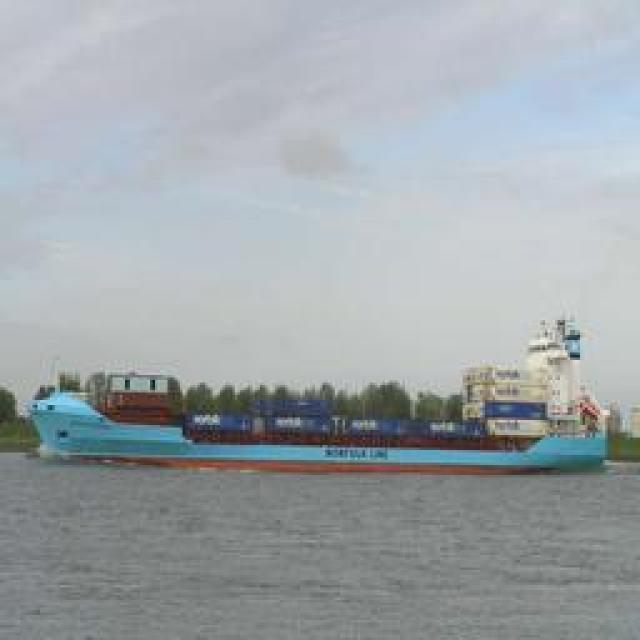CIV_Ship: (31, 366, 611, 472)
